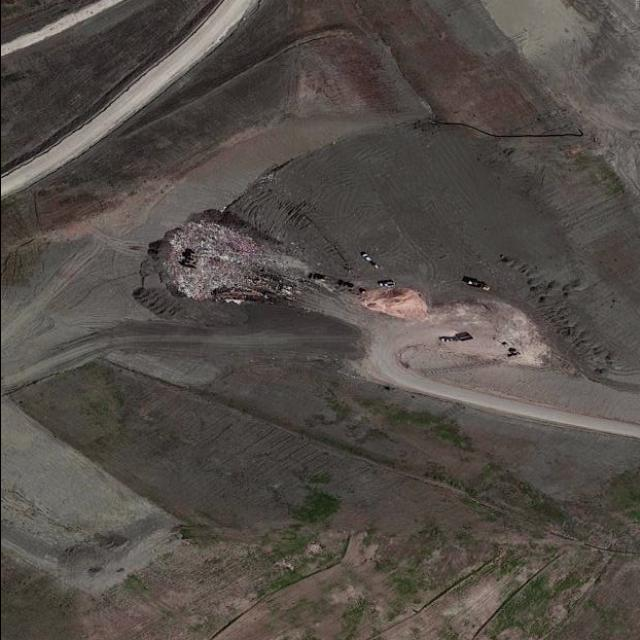dump_site: (152, 217, 310, 312)
